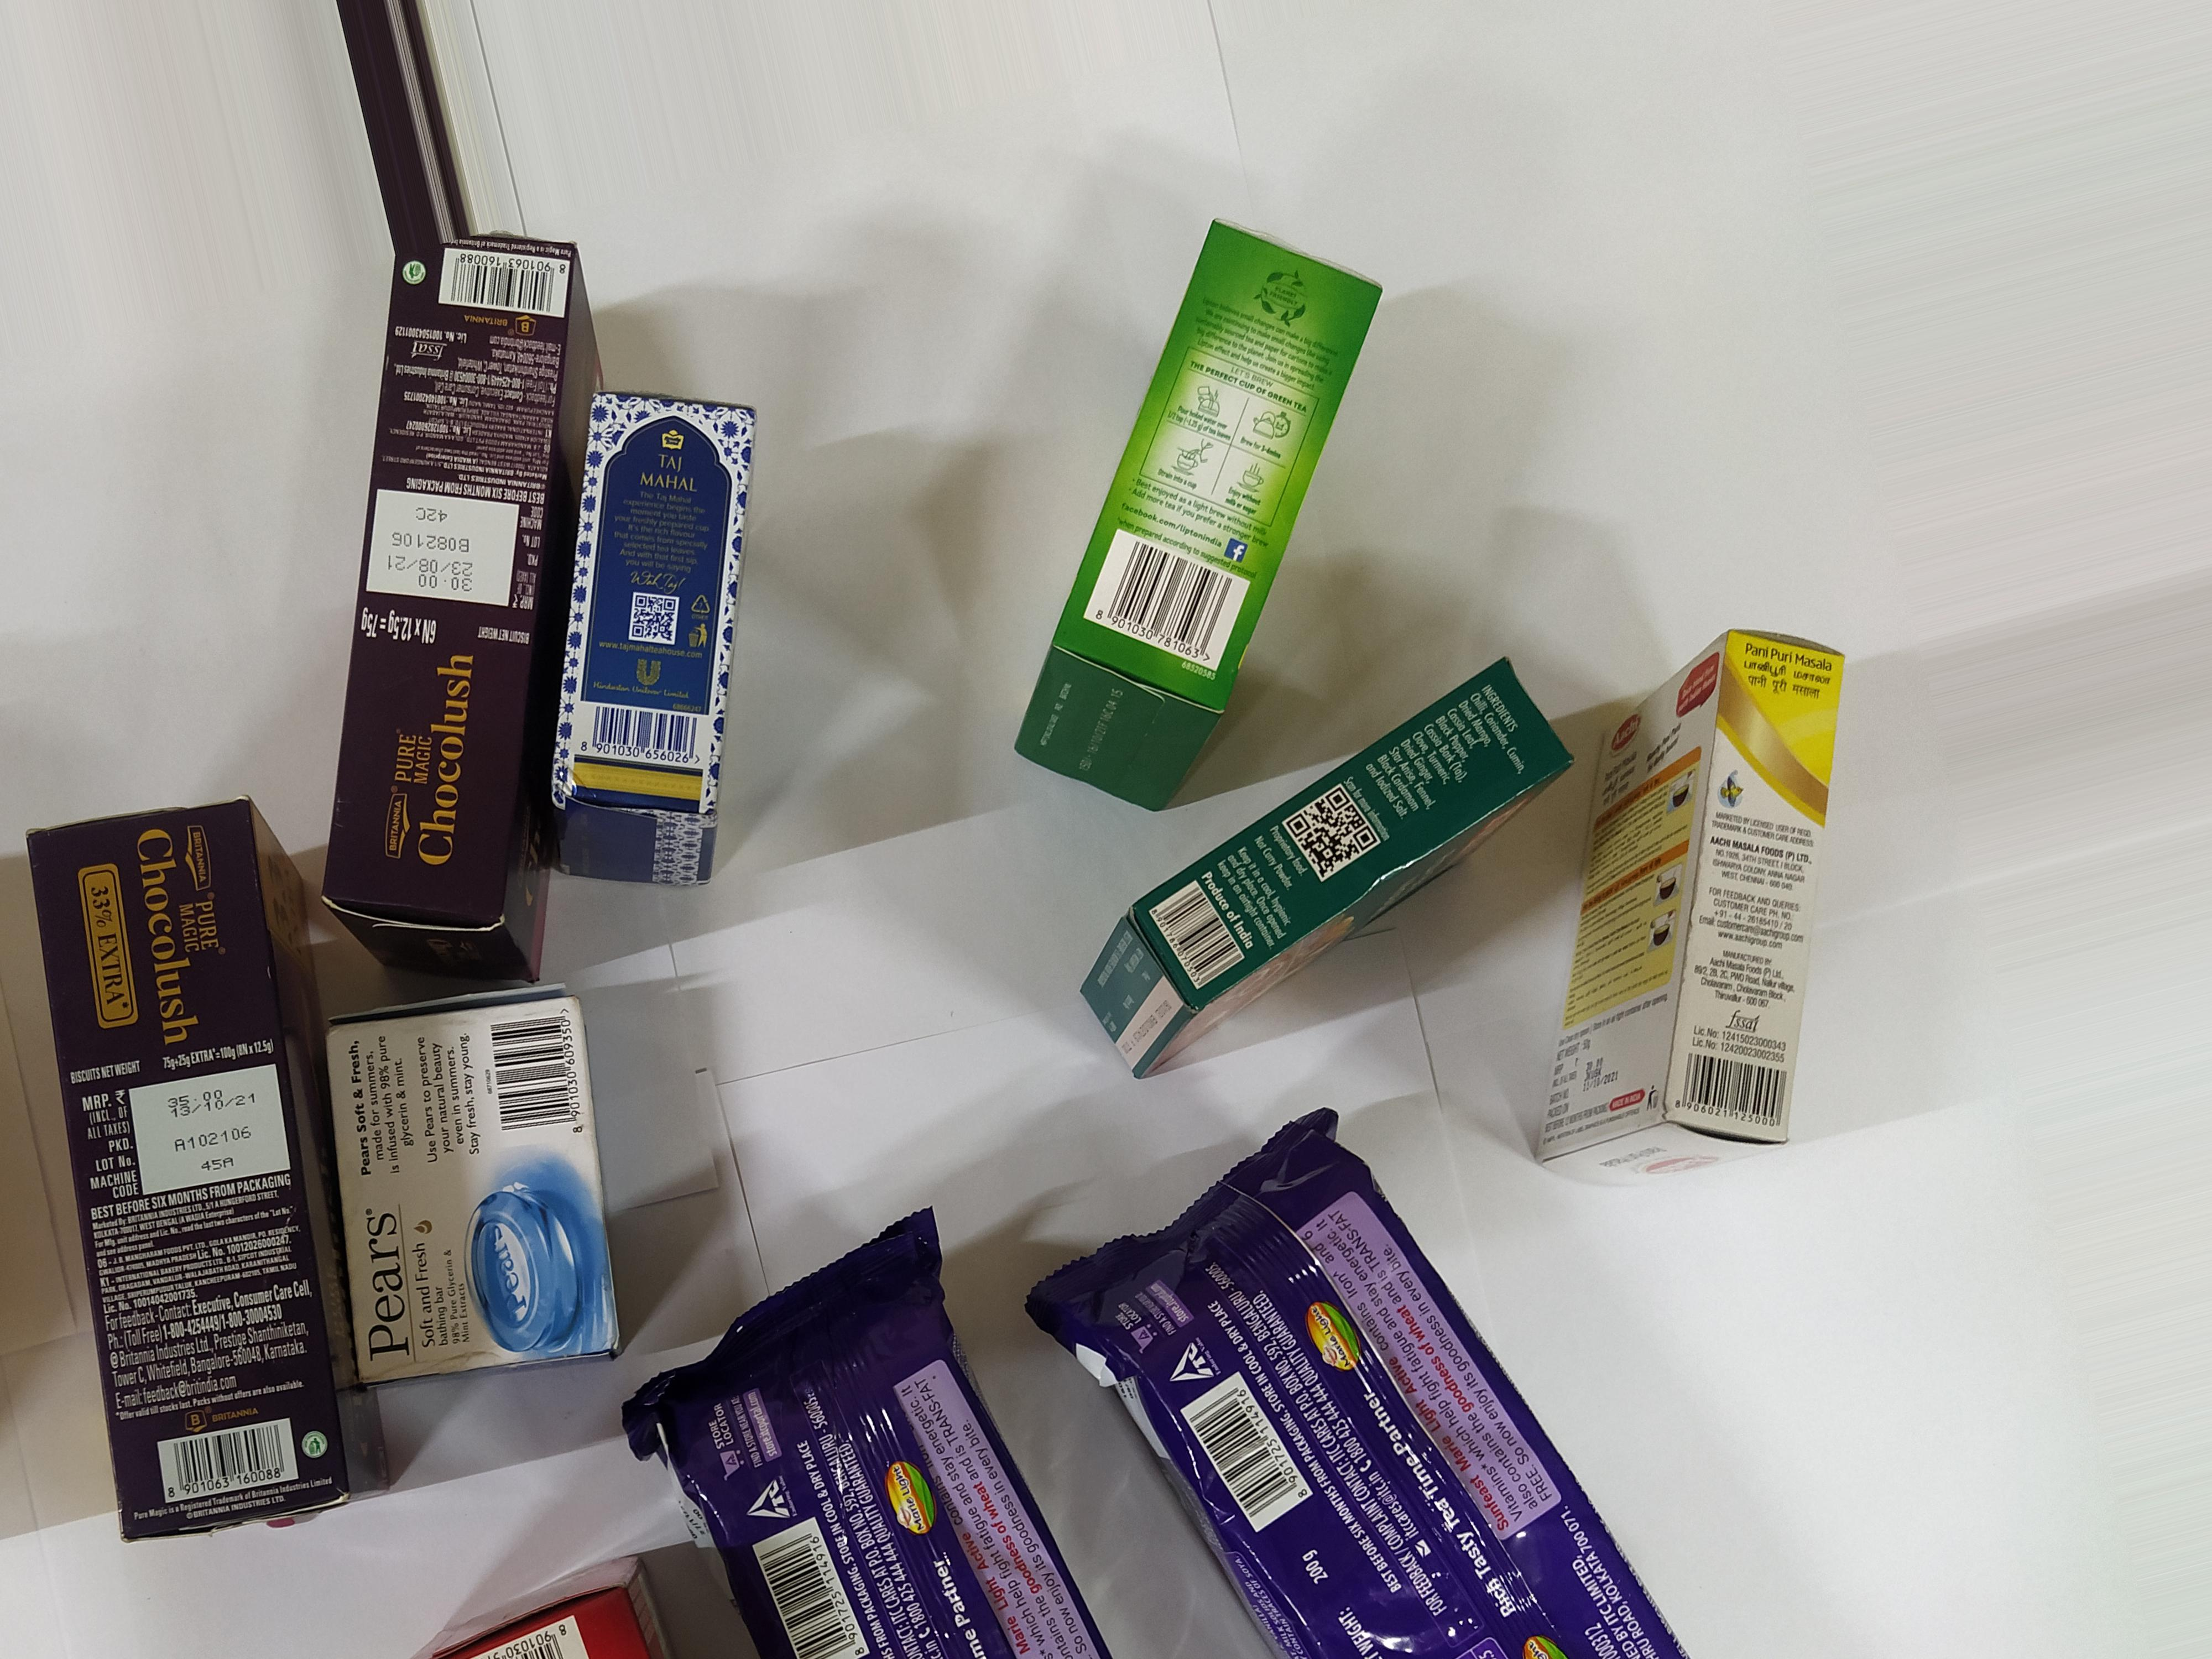Bar_code: (1055, 511, 1266, 683), (1153, 1368, 1327, 1539), (738, 1516, 874, 1659), (122, 1413, 320, 1511), (411, 235, 583, 347), (474, 1002, 596, 1147), (1665, 1037, 1808, 1154), (1134, 871, 1259, 1004), (577, 683, 712, 784), (448, 1593, 608, 1657)
Item: (993, 1105, 1829, 1659), (7, 796, 381, 1565), (644, 1239, 1146, 1659), (1022, 157, 1339, 793), (1564, 608, 1885, 1209), (1061, 749, 1559, 1100), (345, 209, 571, 951), (317, 981, 691, 1382), (561, 354, 766, 924)
